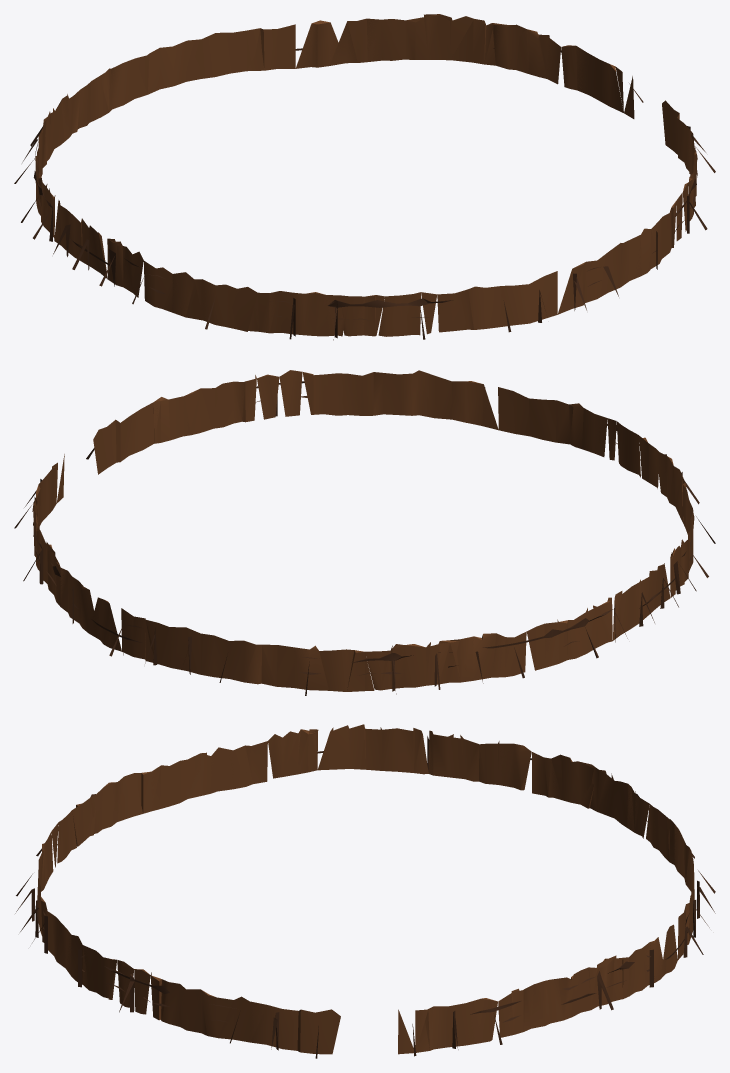
File: Empalizada_LOD2.glb
3 renders of one model, top to bottom at view 1: azimuth 30°, elevation 25°; view 2: azimuth 150°, elevation 25°; view 3: azimuth 270°, elevation 25°, orthographic.
Parts seen in each view (by area): view 1: Empalizada; view 2: Empalizada; view 3: Empalizada.
Boxes of the visible parts, <box> form: Empalizada: <box>14,14,715,340</box>; Empalizada: <box>14,370,715,695</box>; Empalizada: <box>15,724,715,1058</box>.
Size of the model in its own units: 70.37 by 6.29 by 70.58.
